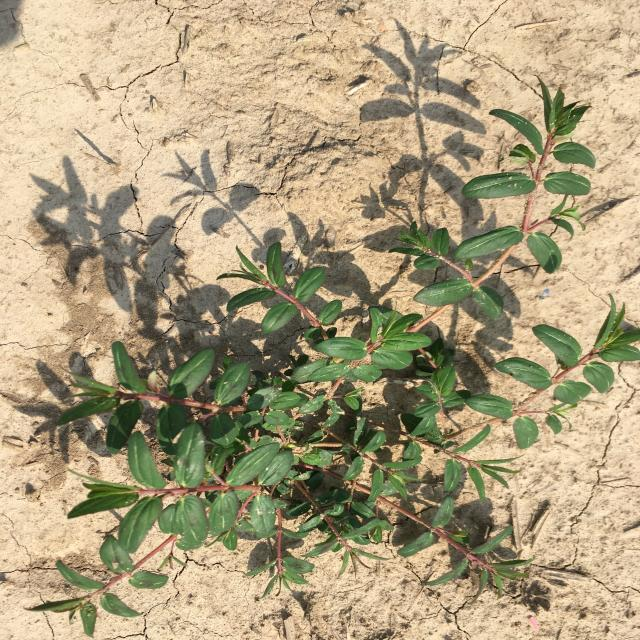SpottedSpurge: (24, 76, 639, 638)
